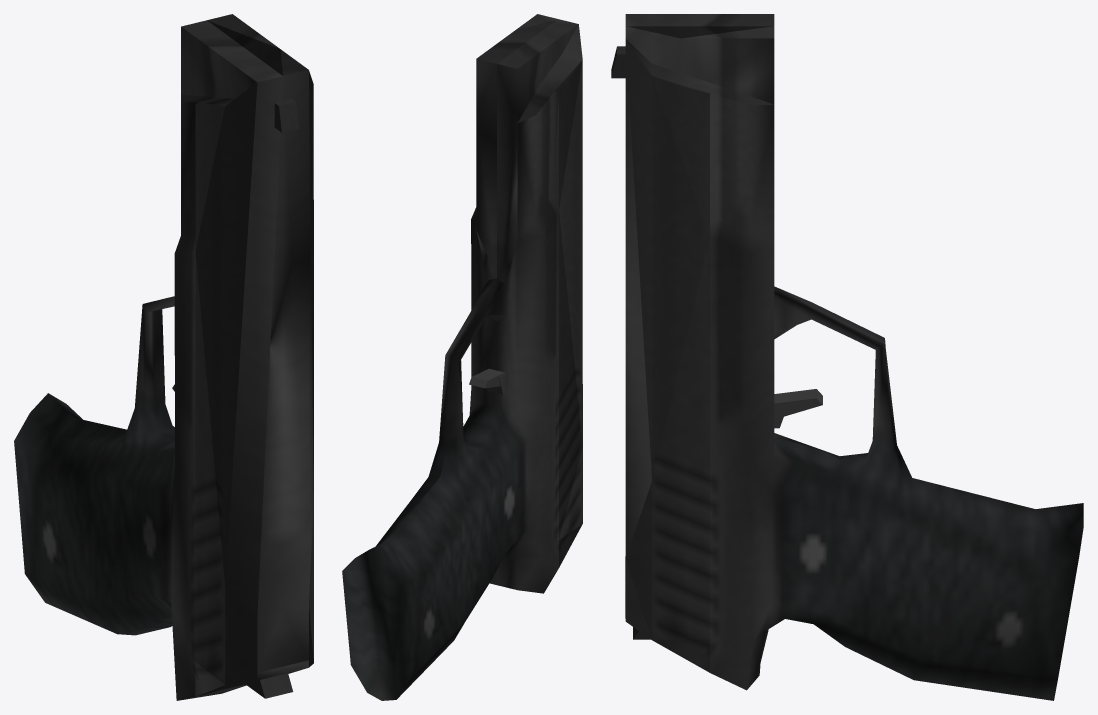
The picture shows the model from 3 angles, left to right: view 1: azimuth 30°, elevation 25°; view 2: azimuth 150°, elevation 25°; view 3: azimuth 270°, elevation 25°; orthographic projection. The views are drawn at different scales.
Visible parts, largest first — view 1: node_7de4afb5_64dc_429b_9924_69f07a10f78e_mesh0; view 2: node_7de4afb5_64dc_429b_9924_69f07a10f78e_mesh0; view 3: node_7de4afb5_64dc_429b_9924_69f07a10f78e_mesh0.
Part boxes in pixels (left/top/right/bottom): node_7de4afb5_64dc_429b_9924_69f07a10f78e_mesh0: left=14, top=14, right=313, bottom=700; node_7de4afb5_64dc_429b_9924_69f07a10f78e_mesh0: left=342, top=14, right=582, bottom=700; node_7de4afb5_64dc_429b_9924_69f07a10f78e_mesh0: left=611, top=14, right=1083, bottom=700.
Bounding box in the file's own units: 0.0199 × 0.1474 × 0.094.
